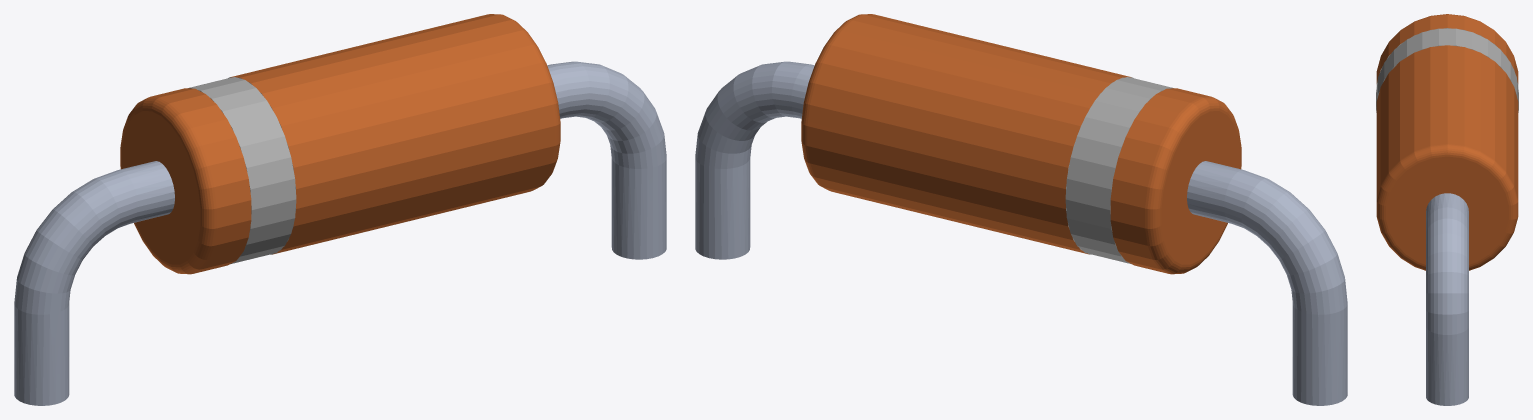
The picture shows the model from 3 angles, left to right: view 1: azimuth 30°, elevation 25°; view 2: azimuth 150°, elevation 25°; view 3: azimuth 270°, elevation 25°; orthographic projection. The views are drawn at different scales.
Parts seen in each view (by area): view 1: DO-35_7mm; view 2: DO-35_7mm; view 3: DO-35_7mm.
Part boxes in pixels (left/top/right/bottom): DO-35_7mm: left=14, top=14, right=666, bottom=405; DO-35_7mm: left=695, top=14, right=1347, bottom=405; DO-35_7mm: left=1376, top=14, right=1518, bottom=405.
Size of the model in its own units: 0.0175 by 0.00674 by 0.00429.
